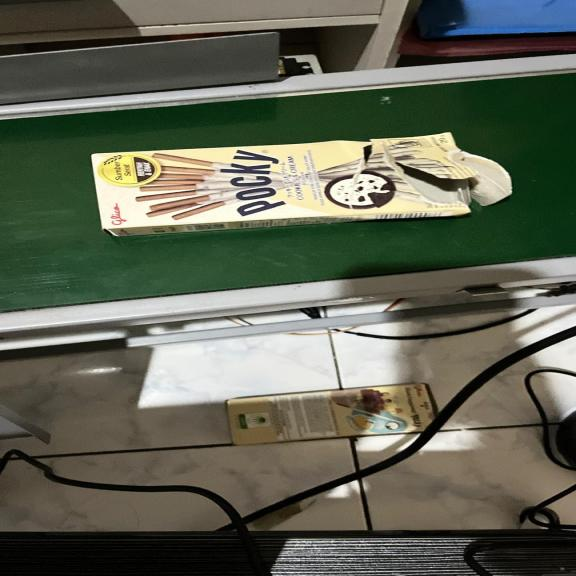Kertas: (91, 134, 461, 226)
